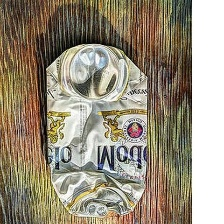can: (42, 42, 154, 220)
